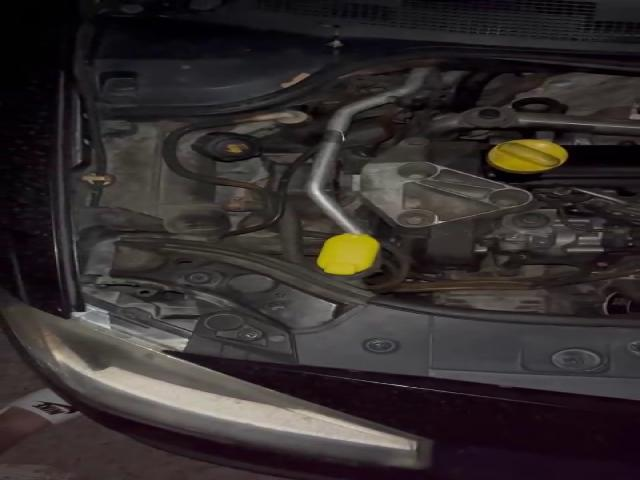antifreeze_tank: (102, 122, 232, 239), (177, 127, 263, 175)
